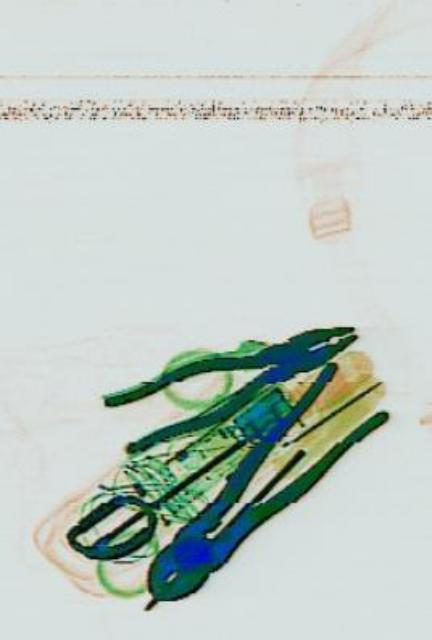Pliers: (128, 340, 386, 630), (99, 296, 359, 460)
